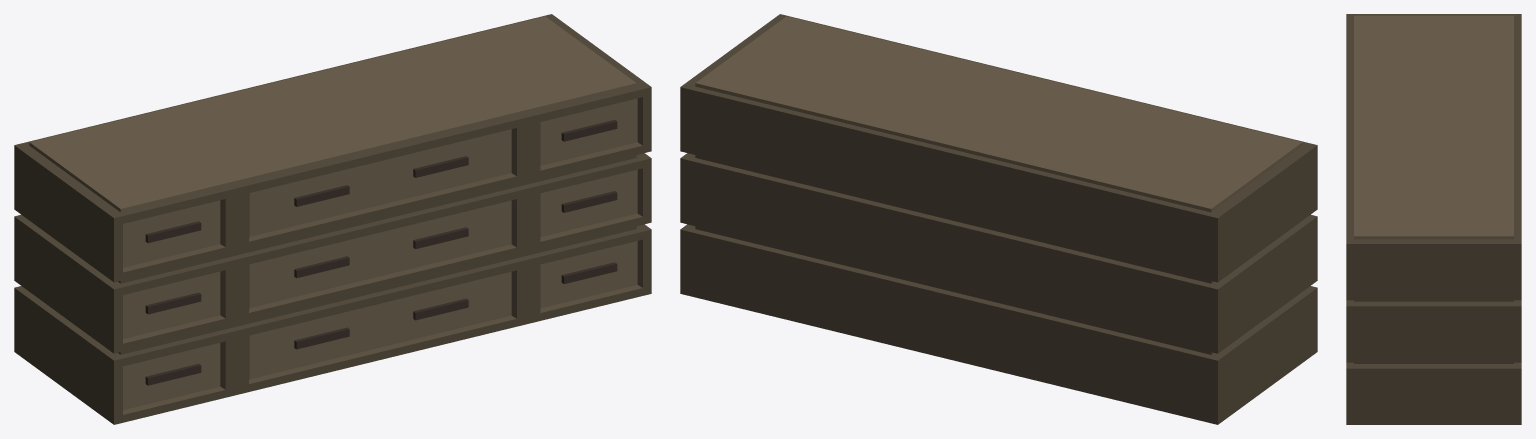
File: Drawer_3.glb
3 renders of one model, left to right at view 1: azimuth 30°, elevation 25°; view 2: azimuth 150°, elevation 25°; view 3: azimuth 270°, elevation 25°, orthographic. The views are drawn at different scales.
Visible parts, largest first — view 1: Drawer_3; view 2: Drawer_3; view 3: Drawer_3.
Boxes of the visible parts, x1,y1,x2,y2 form: Drawer_3: [14, 14, 651, 424]; Drawer_3: [680, 14, 1317, 424]; Drawer_3: [1346, 14, 1521, 424].
Size of the model in its own units: 1.25 by 0.4732 by 0.4009.
